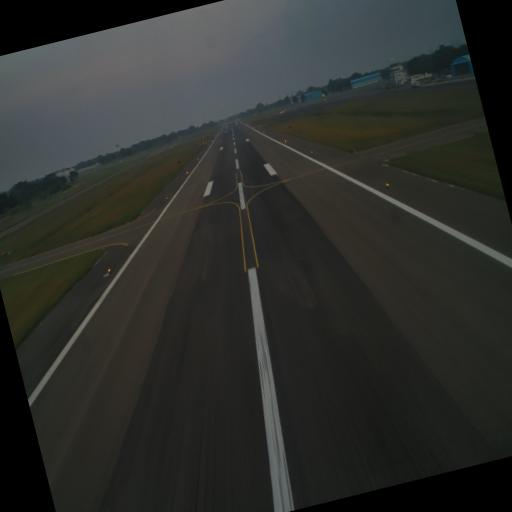on: (106, 265, 112, 276), (384, 180, 391, 189), (164, 196, 170, 202), (310, 149, 314, 156)
